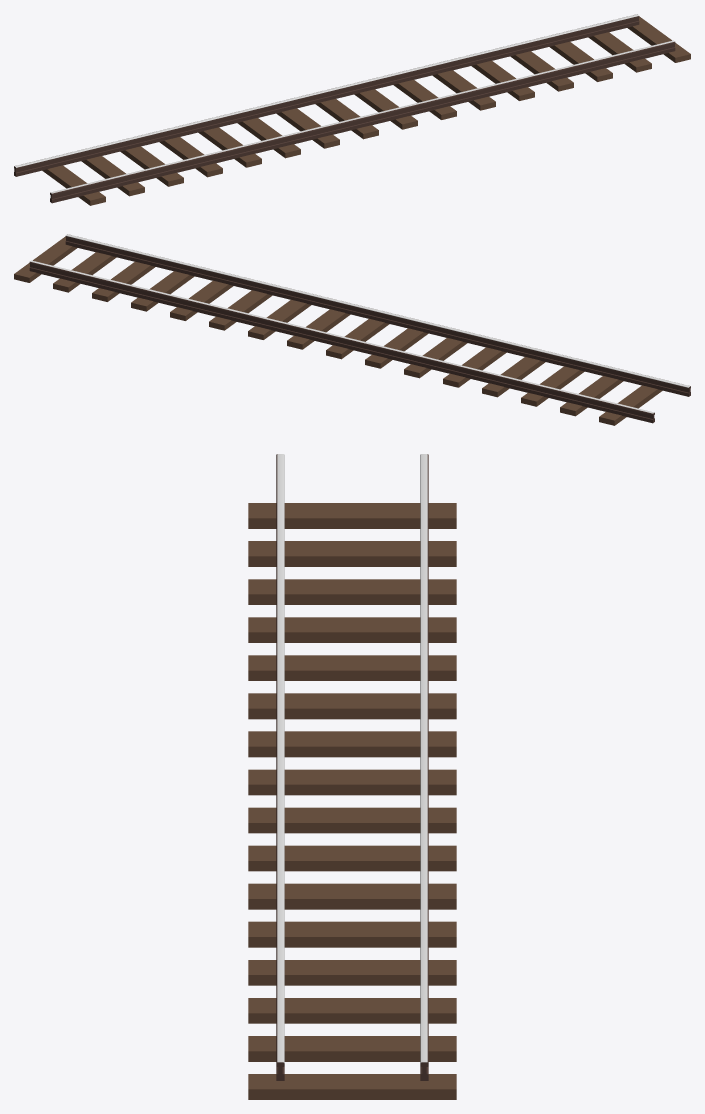
The model's file is Prefab_Rail.fbx.
3 views of the same model, one above another, from view 1: azimuth 30°, elevation 25°; view 2: azimuth 150°, elevation 25°; view 3: azimuth 270°, elevation 25° (orthographic). The views are drawn at different scales.
Visible parts, largest first — view 1: Cube; view 2: Cube; view 3: Cube.
Part boxes in pixels (x1,y1,x2,y2): Cube: [14, 14, 690, 205]; Cube: [14, 234, 690, 425]; Cube: [248, 454, 456, 1099].
Size of the model in its own units: 1620 by 35.64 by 231.
